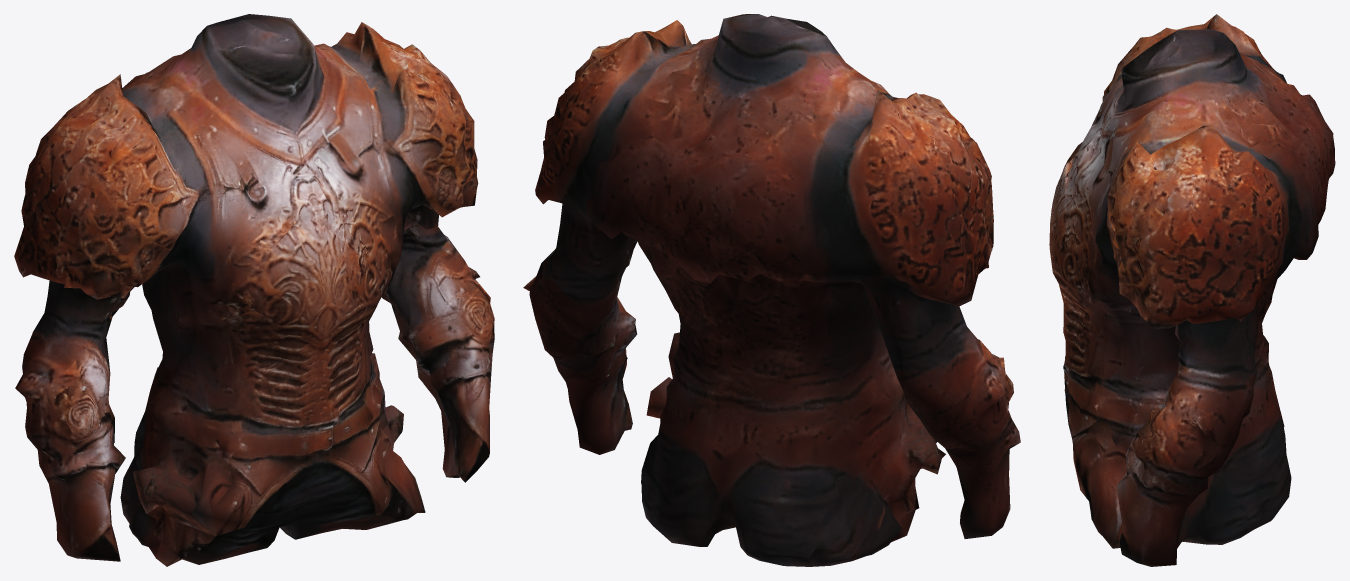
Rendered from leather_armor.glb.
The picture shows the model from 3 angles, left to right: view 1: azimuth 30°, elevation 25°; view 2: azimuth 150°, elevation 25°; view 3: azimuth 270°, elevation 25°; orthographic projection. The views are drawn at different scales.
Parts seen in each view (by area): view 1: aaaaaaaaaaaaaa_0; view 2: aaaaaaaaaaaaaa_0; view 3: aaaaaaaaaaaaaa_0.
Part boxes in pixels (x1,y1,x2,y2): aaaaaaaaaaaaaa_0: (14, 14, 494, 566); aaaaaaaaaaaaaa_0: (523, 14, 1020, 566); aaaaaaaaaaaaaa_0: (1049, 14, 1335, 566).
Size of the model in its own units: 0.8162 by 0.8382 by 0.4694.
Materials: 1 (1 with a texture image).
